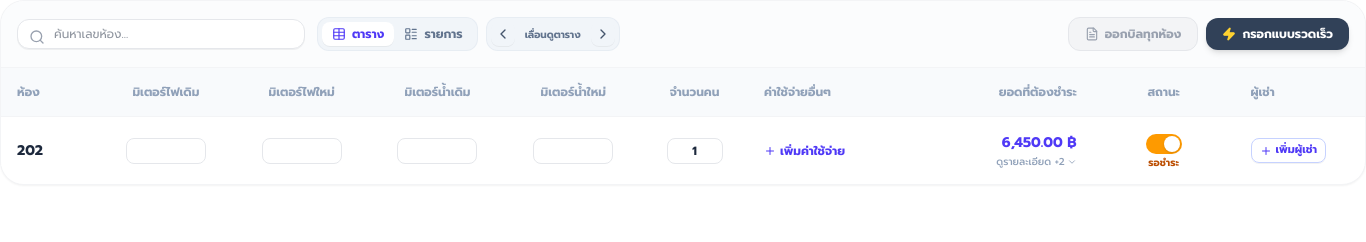
Scenario: LOCAL-07 — List Details & Split Presentation Authority Suite › TS1–TS5: Table Mode renders split charge components without synthetic combined label
This screenshot has width=1366, height=242.
Expected: the text "202" is shown, x1=1 y1=116 x2=98 y2=184
# Click "ดูรายละเอียด" in Table Mode
Click the button "ดูรายละเอียด +2" at (1036, 162), box x1=996 y1=155 x2=1077 y2=168
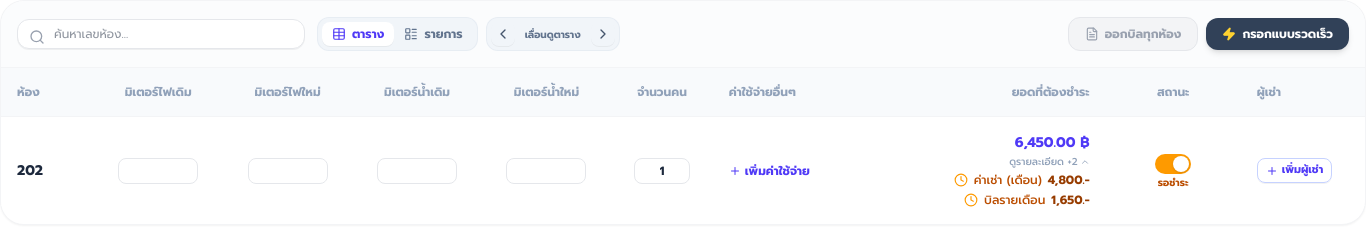
Expected: the text "ค่าเช่า (เดือน)" is shown, x1=974 y1=172 x2=1042 y2=188
Expected: the text "4,800.-" is shown, x1=1048 y1=172 x2=1090 y2=188
Expected: the text "บิลรายเดือน" is shown, x1=984 y1=192 x2=1045 y2=208
